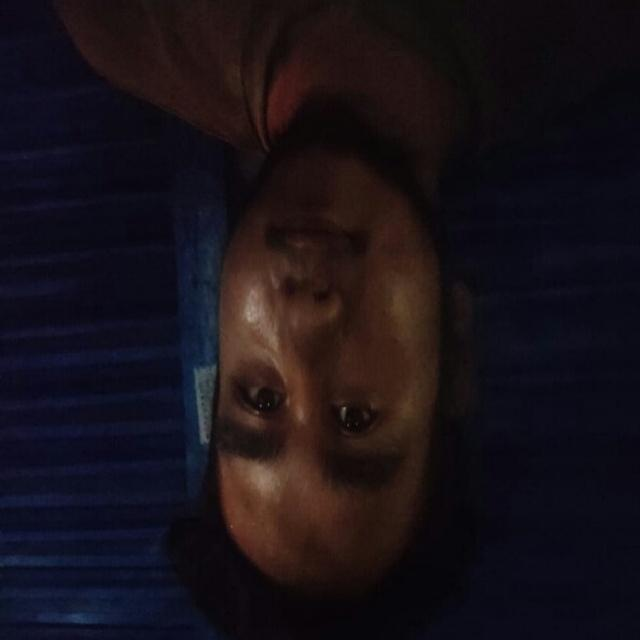Natural: (143, 84, 504, 631)
